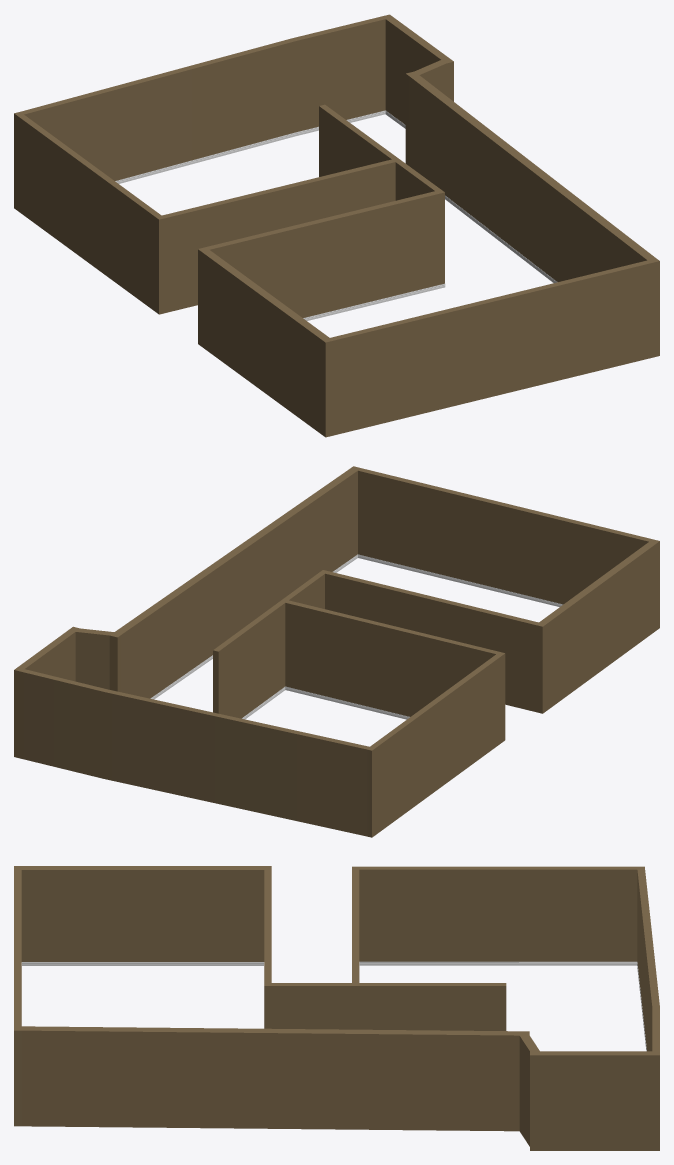
Rendered from Walls.fbx.
3 views of the same model, one above another, from view 1: azimuth 30°, elevation 25°; view 2: azimuth 150°, elevation 25°; view 3: azimuth 270°, elevation 25° (orthographic). The views are drawn at different scales.
Visible parts, largest first — view 1: Walls; view 2: Walls; view 3: Walls.
Boxes of the visible parts, x1,y1,x2,y2 form: Walls: [14, 14, 659, 437]; Walls: [14, 466, 659, 837]; Walls: [14, 866, 659, 1150].
Size of the model in its own units: 926 by 219 by 1336.
